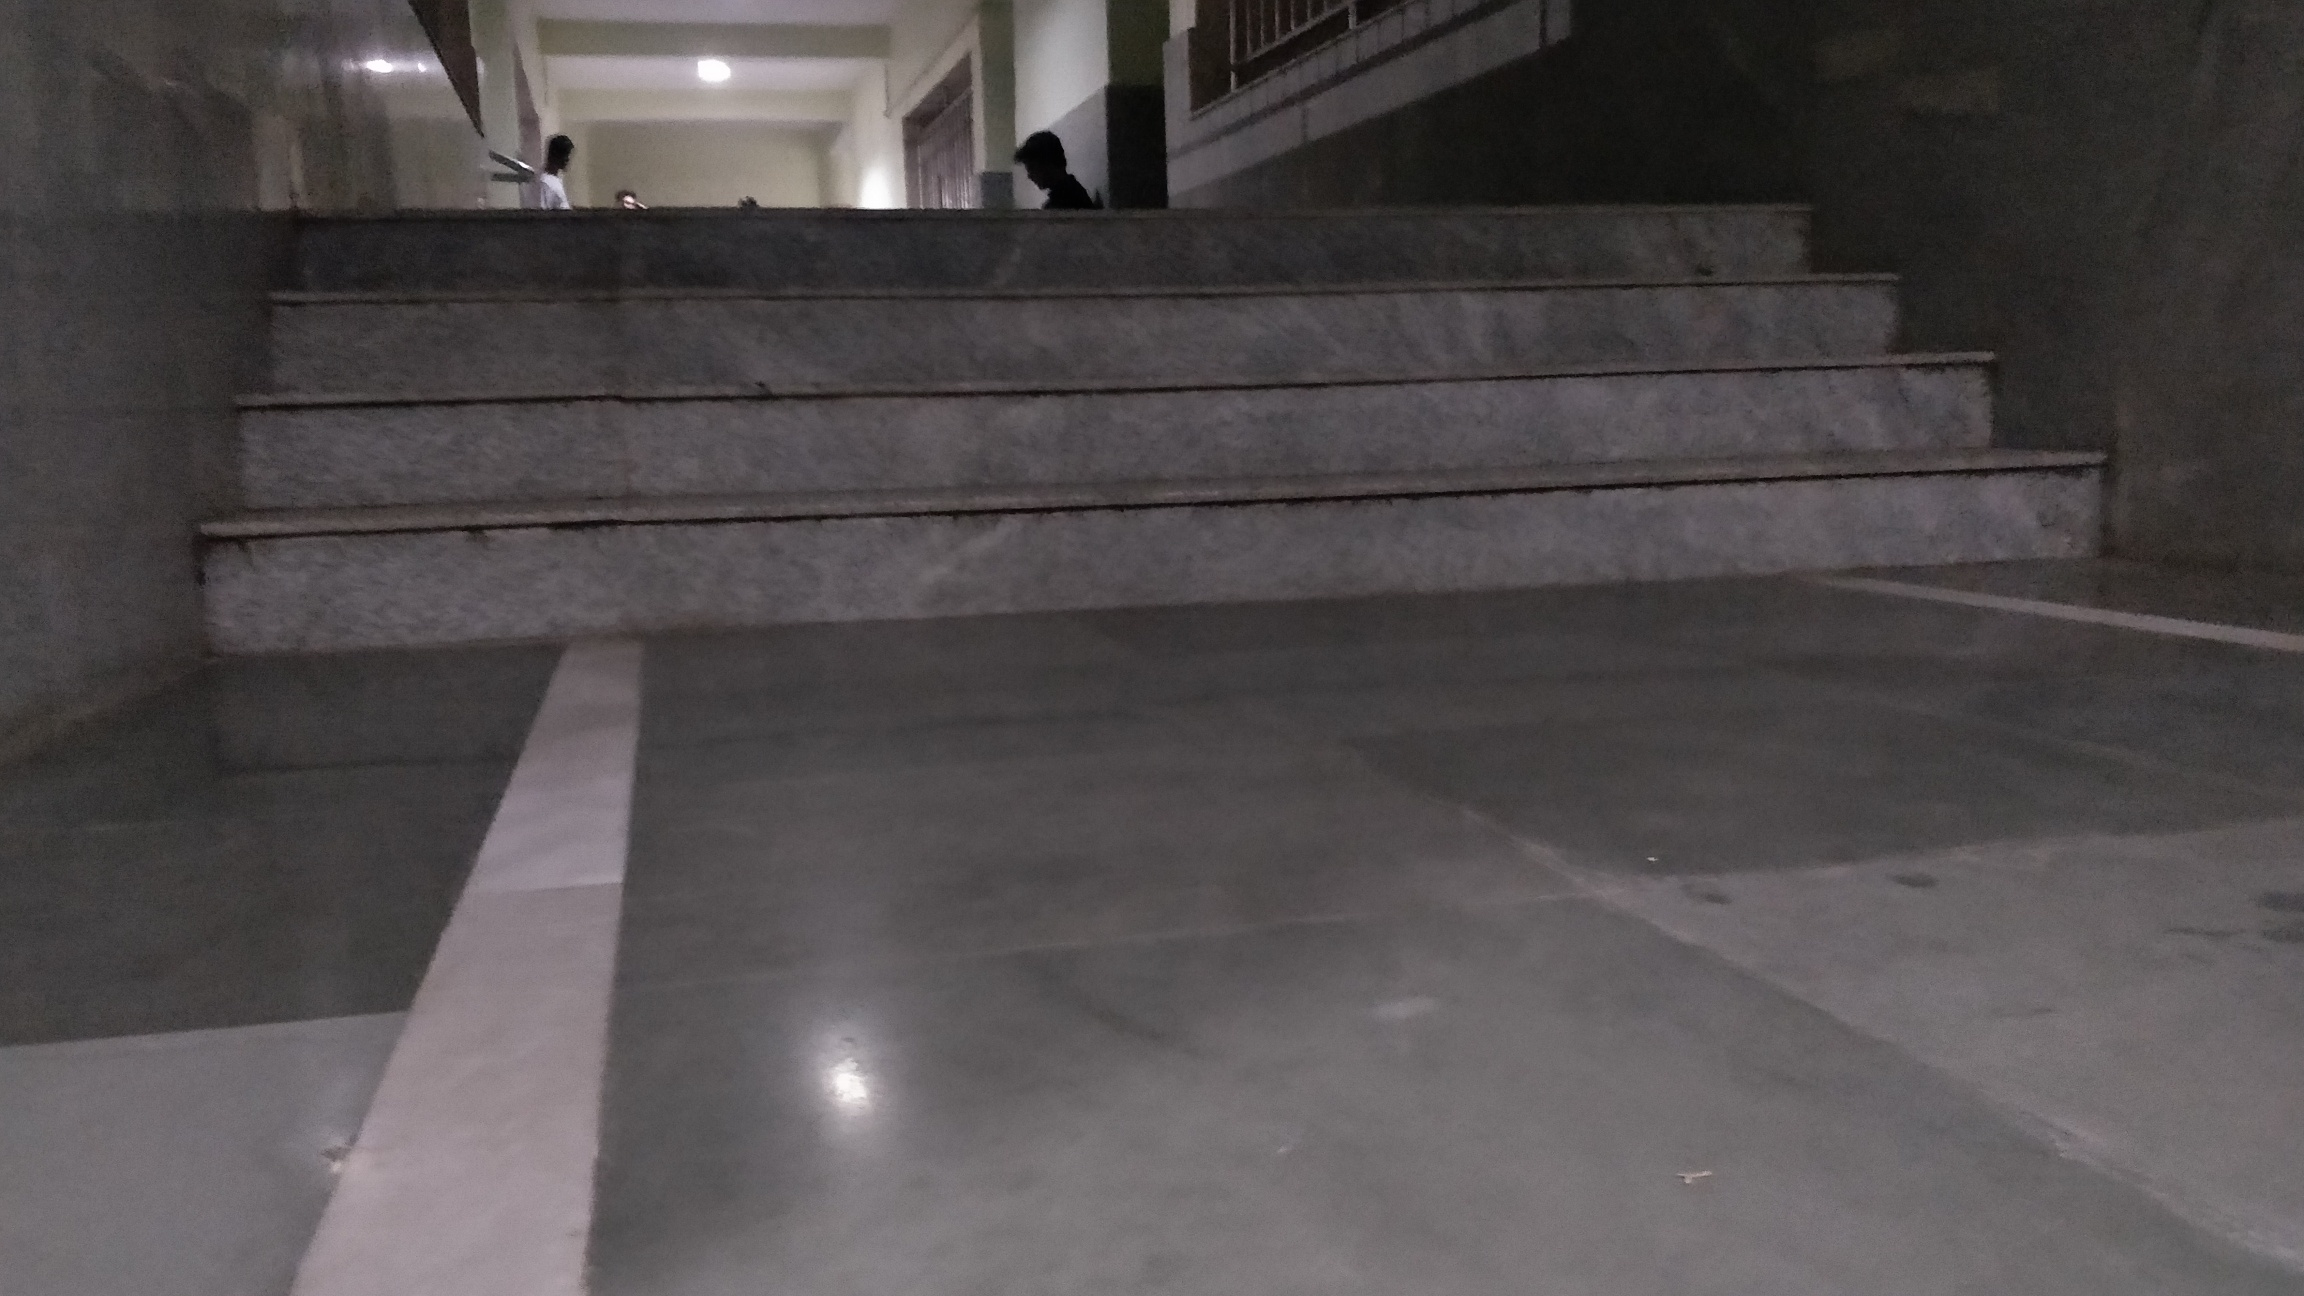stairs_up: (207, 196, 2084, 590)
